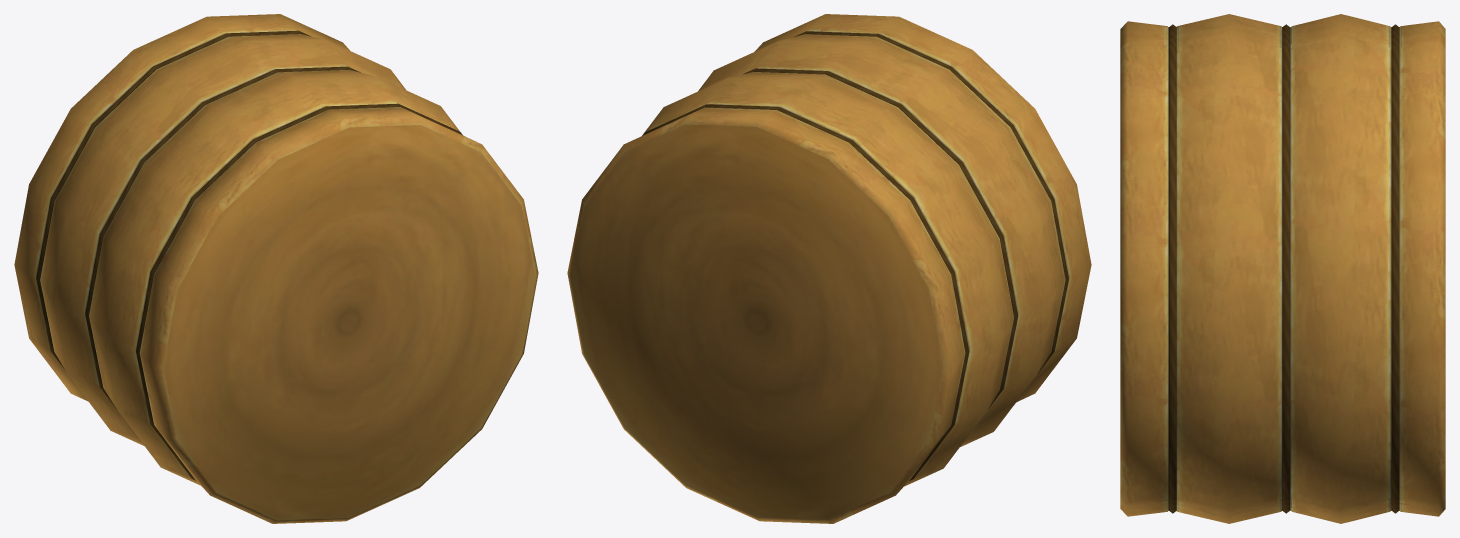
File: stklib_hayBall_a_main.glb
3 views of the same model, side by side, from view 1: azimuth 30°, elevation 25°; view 2: azimuth 150°, elevation 25°; view 3: azimuth 270°, elevation 25° (orthographic). The views are drawn at different scales.
Parts seen in each view (by area): view 1: stklib_hayBall_diff_a.jpg__; view 2: stklib_hayBall_diff_a.jpg__; view 3: stklib_hayBall_diff_a.jpg__.
Part boxes in pixels (x1,y1,x2,y2): stklib_hayBall_diff_a.jpg__: (14, 14, 538, 523); stklib_hayBall_diff_a.jpg__: (567, 14, 1091, 523); stklib_hayBall_diff_a.jpg__: (1120, 14, 1445, 523).
Bounding box in the file's own units: 5.3 × 5.3 × 3.37.
Materials: 1 (1 with a texture image).
